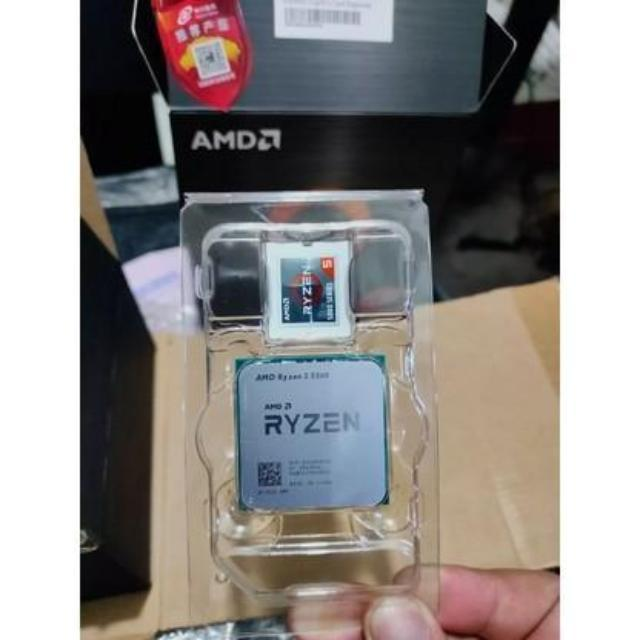CPU: (236, 354, 390, 508)
